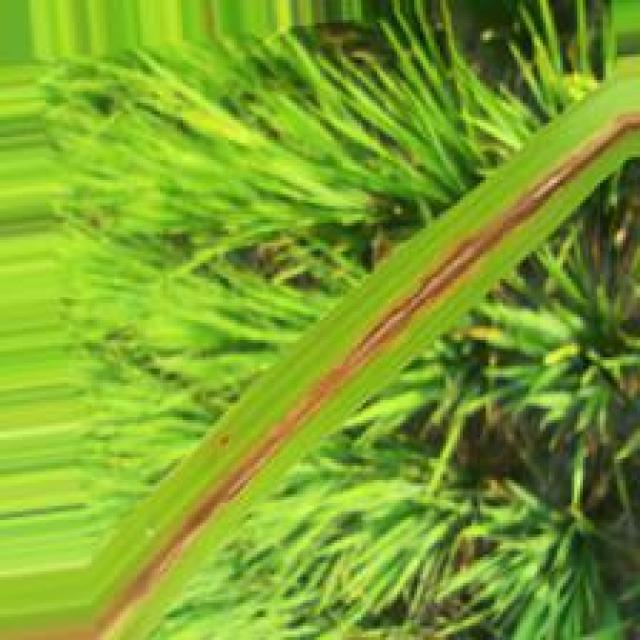Leaf_Blast: (100, 115, 640, 638)
